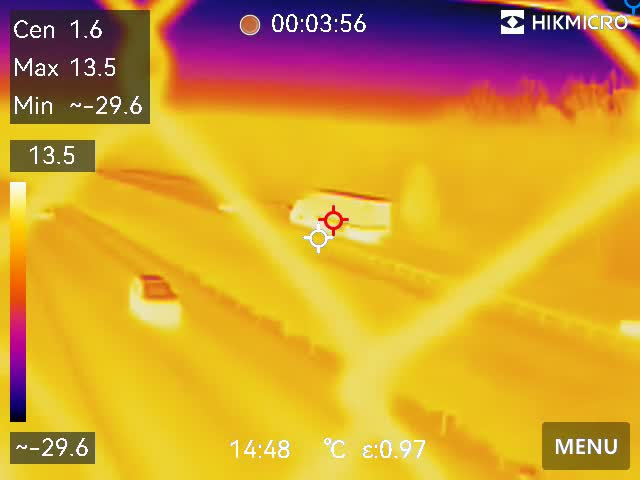heavyTruck: (286, 186, 391, 238)
largeCar: (134, 271, 179, 312)
